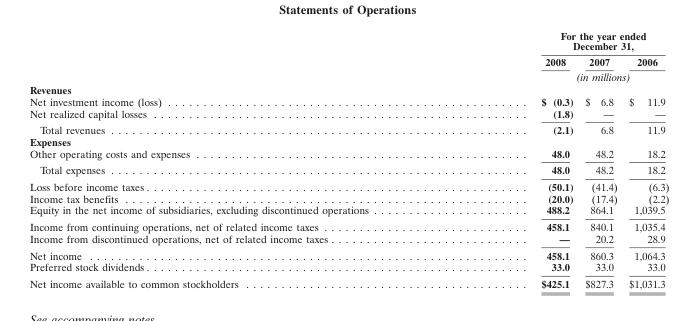table: (28, 29, 668, 289)
table column: (28, 29, 454, 289), (454, 29, 578, 289), (622, 29, 668, 289), (578, 29, 622, 289)
table column header: (28, 29, 668, 83)
table projected row header: (28, 83, 668, 95), (28, 135, 668, 147)
table row: (28, 29, 668, 53), (28, 161, 668, 178), (28, 53, 668, 68), (28, 68, 668, 83), (28, 203, 668, 218), (28, 260, 668, 275), (28, 107, 668, 121), (28, 121, 668, 135), (28, 147, 668, 161), (28, 178, 668, 192), (28, 218, 668, 232), (28, 232, 668, 246), (28, 246, 668, 260), (28, 275, 668, 289), (28, 83, 668, 95), (28, 95, 668, 107), (28, 135, 668, 147), (28, 192, 668, 203)
table spanning cell: (454, 29, 668, 53), (454, 68, 668, 83)
